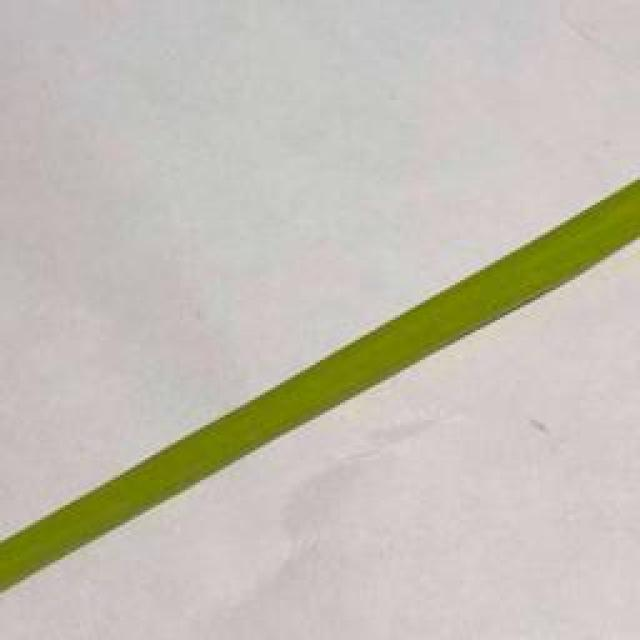Healthy-Plant: (0, 179, 640, 593)
